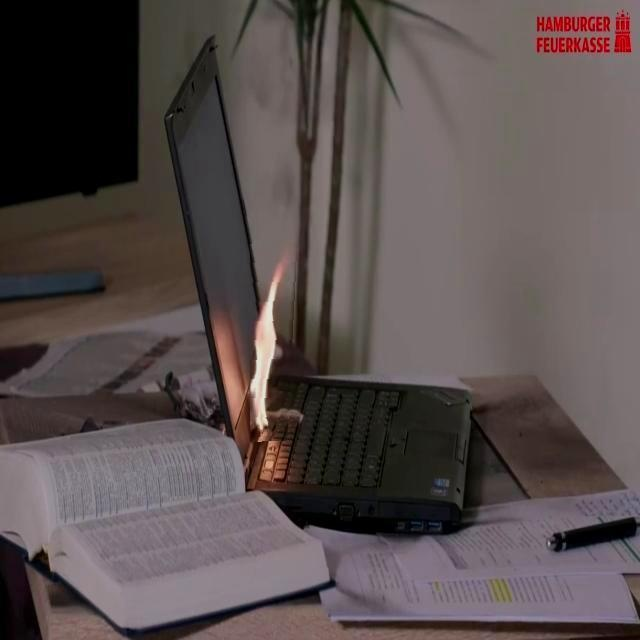fire: (240, 254, 304, 443)
